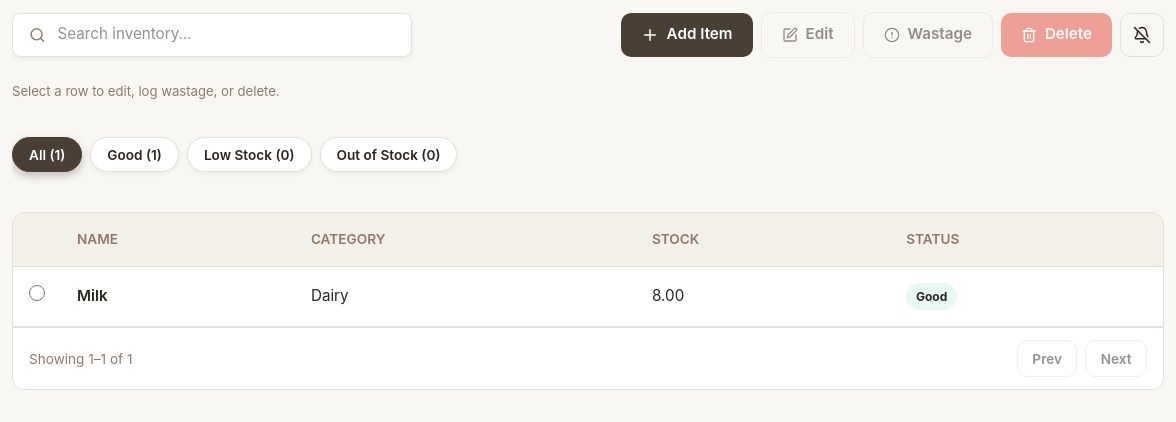
Test: InventoryPage roles › should give stockists toolbar edit, wastage, and delete controls
Expected: the text "Milk" is shown, [61, 266, 295, 327]
Expected: the button "Add Item" is shown, [621, 13, 752, 57]
// Selecting the row enables the toolbar.
Click the radio button with test id "select-item-i1": (37, 293) [29, 285, 45, 301]
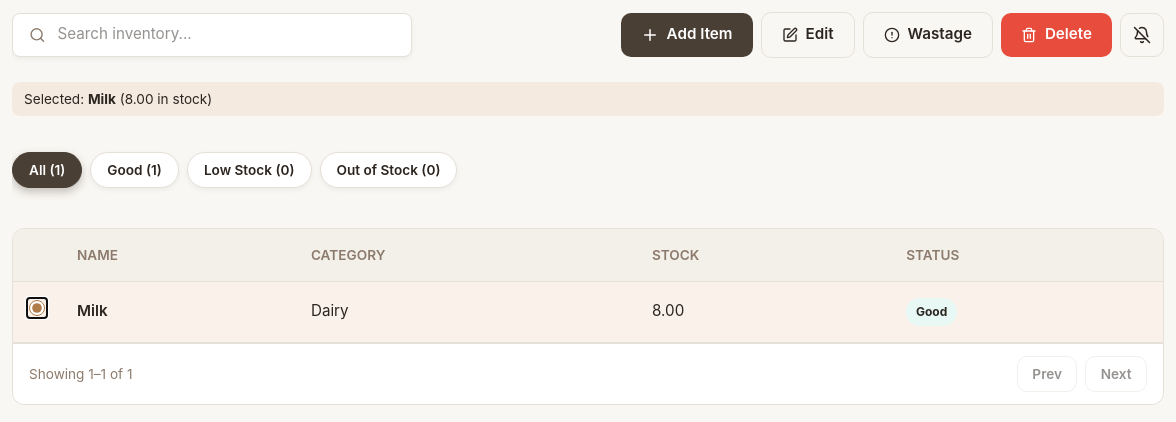
Expected: the button with test id "toolbar-edit-btn" is enabled, [760, 12, 854, 58]
Expected: the button with test id "toolbar-wastage-btn" is enabled, [862, 12, 993, 58]
Expected: the button with test id "toolbar-delete-btn" is enabled, [1001, 13, 1112, 57]
